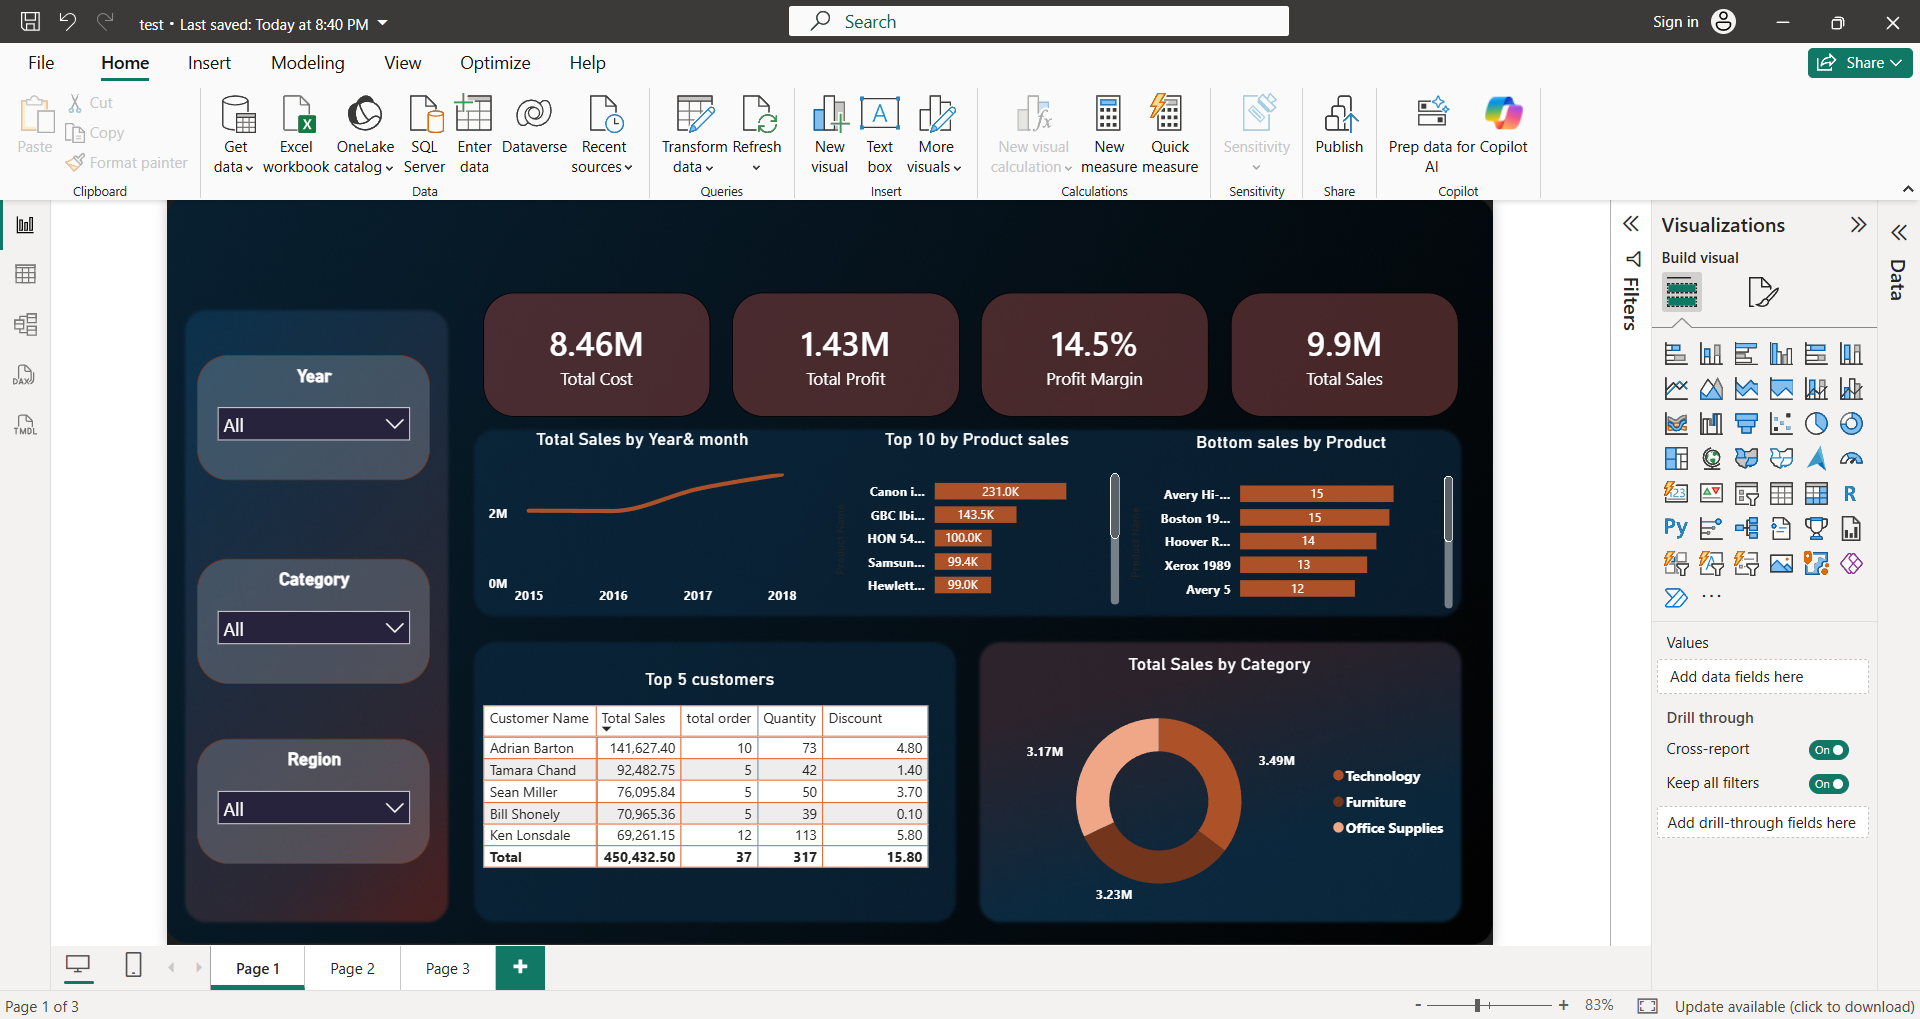

This screenshot's page, from the dashboard's own definition file:
{"tool":"powerbi","page":{"name":"Page 1","canvas":[1280,720],"ordinal":0},"visuals":[{"type":"donutChart","title":"Total Sales by Category","fields":{"Category":["product dim.Category"],"Y":["Dax.Total_salse"]},"box":[784.9,437.7,461.1,253.9],"z":0},{"type":"cardVisual","fields":{"Data":["Dax.Total_salse"]},"box":[1026.4,89.2,220,120],"z":1000},{"type":"cardVisual","fields":{"Data":["Sum(fact table.Total Profit)"]},"box":[544.9,89.2,220,120],"z":2000},{"type":"cardVisual","fields":{"Data":["Dax.Profit margin"]},"box":[785.7,89.2,220,120],"z":3000},{"type":"cardVisual","fields":{"Data":["Dax.tcost"]},"box":[304.6,89.2,219.6,120],"z":4000},{"type":"slicer","title":"Year","fields":{"Values":["date dim.Order Date.Variation.Date Hierarchy.Year"]},"box":[28.8,149.6,225,120.8],"z":5000},{"type":"lineChart","title":"Total Sales by Year& month","fields":{"Category":["date dim.Order Date.Variation.Date Hierarchy.Year","date dim.Order Date.Variation.Date Hierarchy.Month"],"Y":["Dax.Total_salse"]},"box":[304.6,220.9,307.4,179.8],"z":6000},{"type":"slicer","title":"Category","fields":{"Values":["product dim.Category"]},"box":[28.8,345.8,225,120.8],"z":7000},{"type":"slicer","title":"Region","fields":{"Values":["customer dim.Region"]},"box":[28.8,520.1,225,120.8],"z":8000},{"type":"barChart","title":"Top 10 by Product sales","fields":{"Category":["product dim.Product Name"],"Y":["Dax.Total_salse"]},"box":[639.4,220.8,284.7,174.9],"z":9000},{"type":"barChart","title":"Bottom sales by Product","fields":{"Category":["product dim.Product Name"],"Y":["Dax.Total_salse"]},"box":[924.1,223.2,322.1,176.1],"z":10000},{"type":"pivotTable","title":"Top 5 customers","fields":{"Rows":["customer dim.Customer Name"],"Values":["Dax.Total_salse","Dax.total order","Sum(fact table.Quantity)","Sum(fact table.Discount)"]},"box":[300.5,452.8,447.3,225],"z":11000}]}

Visuals, with their boxes on the page's 1280x720 design canvas (x1, y1, x2, y2). These are canvas units, not pixel positions in the 1920x1019 screenshot, which may show the page scaled, cropped or inside an application window:
"Total Sales by Category" donutChart: l=785, t=438, r=1246, b=692
cardVisual - Dax.Total_salse: l=1026, t=89, r=1246, b=209
cardVisual - Sum(fact table.Total Profit): l=545, t=89, r=765, b=209
cardVisual - Dax.Profit margin: l=786, t=89, r=1006, b=209
cardVisual - Dax.tcost: l=305, t=89, r=524, b=209
"Year" slicer: l=29, t=150, r=254, b=270
"Total Sales by Year& month" lineChart: l=305, t=221, r=612, b=401
"Category" slicer: l=29, t=346, r=254, b=467
"Region" slicer: l=29, t=520, r=254, b=641
"Top 10 by Product sales" barChart: l=639, t=221, r=924, b=396
"Bottom sales by Product" barChart: l=924, t=223, r=1246, b=399
"Top 5 customers" pivotTable: l=300, t=453, r=748, b=678
